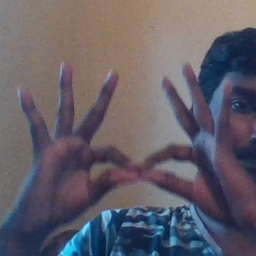B: (83, 117, 206, 210)
